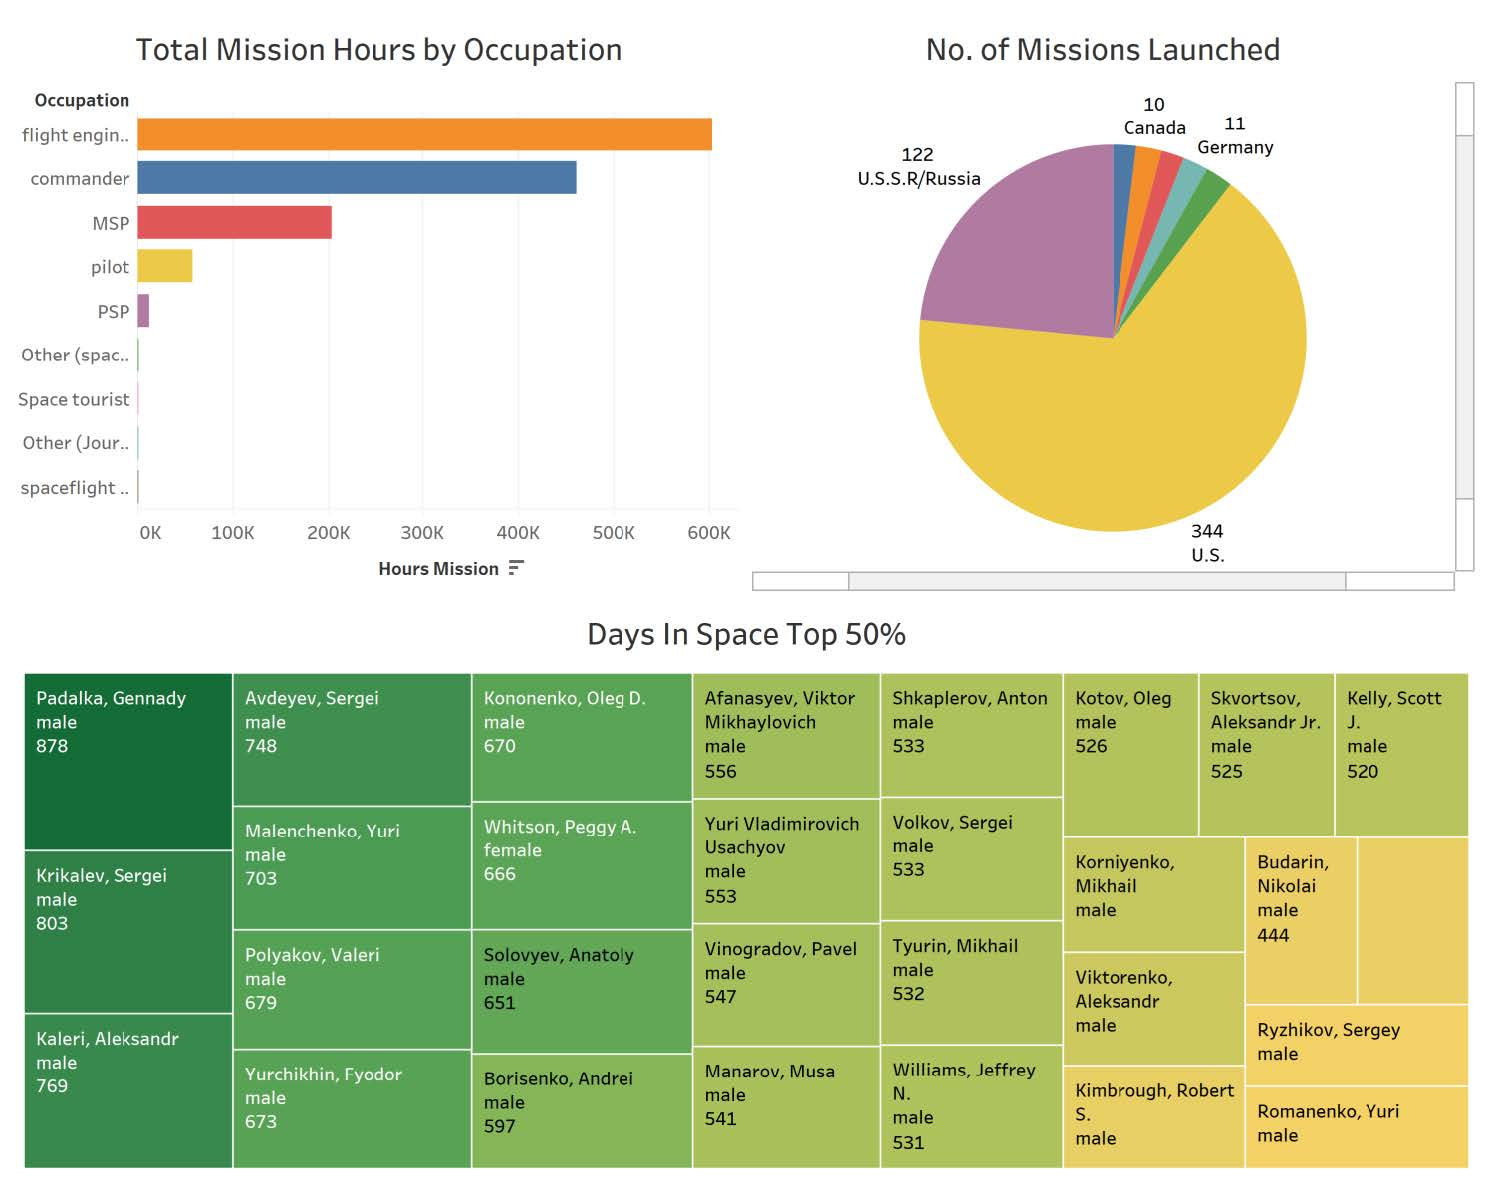

This screenshot's page, from the dashboard's own definition file:
{"tool":"tableau","page":{"name":"Dashboard_Flights_Stats","canvas":[1000,800],"ordinal":0},"visuals":[{"type":"worksheet","title":"Mission_Hours","mark":"Automatic","rows":["occupation"],"cols":["hours_mission"],"box":[8,8,492,392]},{"type":"worksheet","title":"Launched_Missions","mark":"Pie","box":[500,8,492,392]},{"type":"worksheet","title":"In_Space_Top50%","mark":"Automatic","box":[8,400,984,392]}]}

Visuals, with their boxes in screenshot pixels (x1, y1, x2, y2), scaled from the page's 1000x800 canvas onto the 1493x1194 screenshot:
"Mission_Hours" worksheet: [x1=12, y1=12, x2=746, y2=597]
"Launched_Missions" worksheet (Pie marks): [x1=746, y1=12, x2=1481, y2=597]
"In_Space_Top50%" worksheet: [x1=12, y1=597, x2=1481, y2=1182]
